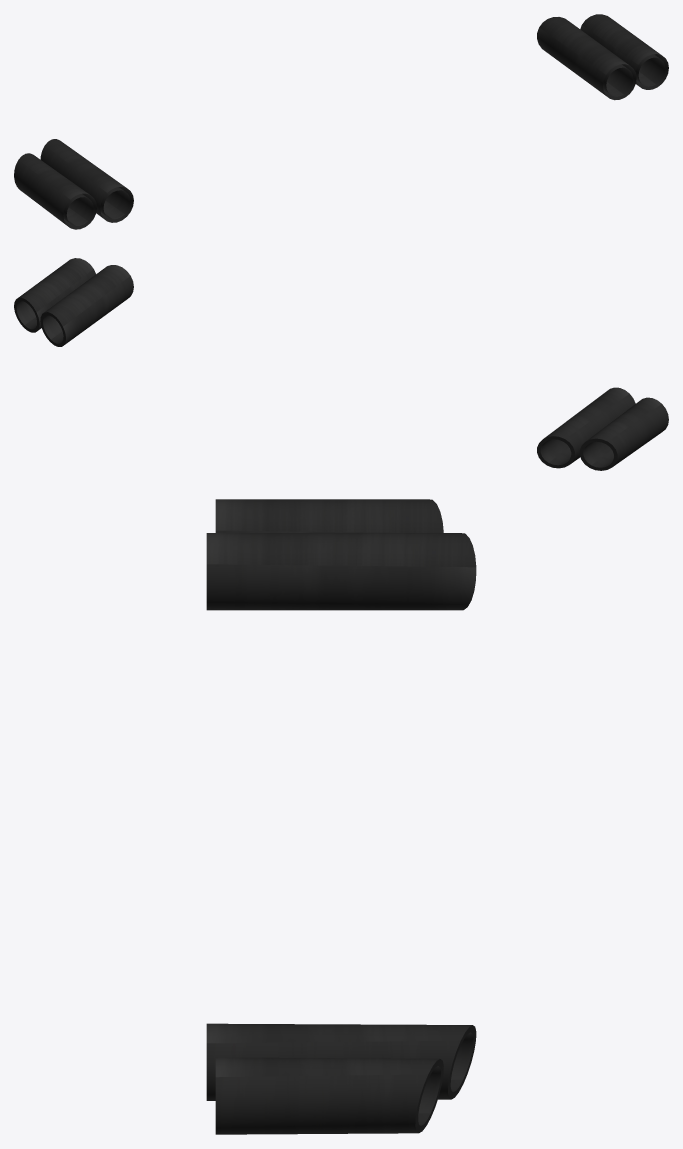
Rendered from pipes.obj.
3 renders of one model, top to bottom at view 1: azimuth 30°, elevation 25°; view 2: azimuth 150°, elevation 25°; view 3: azimuth 270°, elevation 25°, orthographic. The views are drawn at different scales.
Parts seen in each view (by area): view 1: tailPipes; view 2: tailPipes; view 3: tailPipes.
Part boxes in pixels (x1,y1,x2,y2): tailPipes: (14,14,668,229); tailPipes: (14,258,668,470); tailPipes: (206,499,476,1134).
Size of the model in its own units: 147 by 8.2 by 28.42.
Materials: 1 (1 with a texture image).
